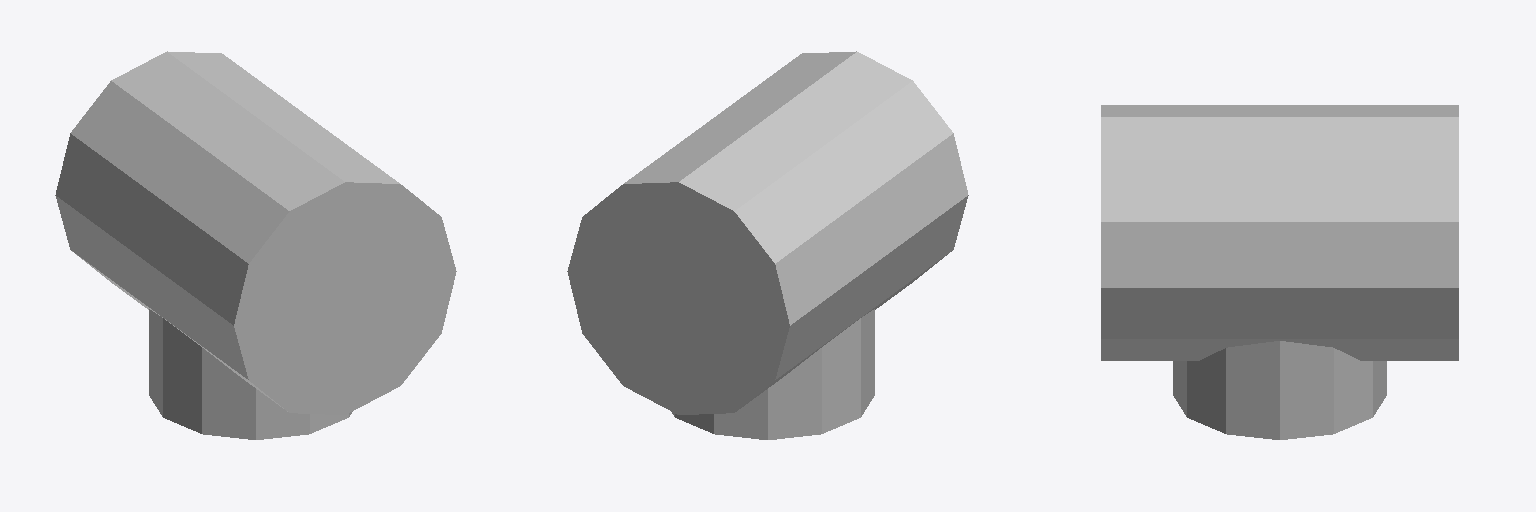
The model's file is arm_link1.obj.
The picture shows the model from 3 angles: view 1: azimuth 30°, elevation 25°; view 2: azimuth 150°, elevation 25°; view 3: azimuth 270°, elevation 25°; orthographic projection.
Parts seen in each view (by area): view 1: arm_link1_Cylinder.071; view 2: arm_link1_Cylinder.071; view 3: arm_link1_Cylinder.071.
Part boxes in pixels (x1,y1,x2,y2): arm_link1_Cylinder.071: (55, 51, 456, 439); arm_link1_Cylinder.071: (567, 51, 968, 439); arm_link1_Cylinder.071: (1101, 105, 1458, 439).
Bounding box in the file's own units: 0.072 × 0.086 × 0.1.